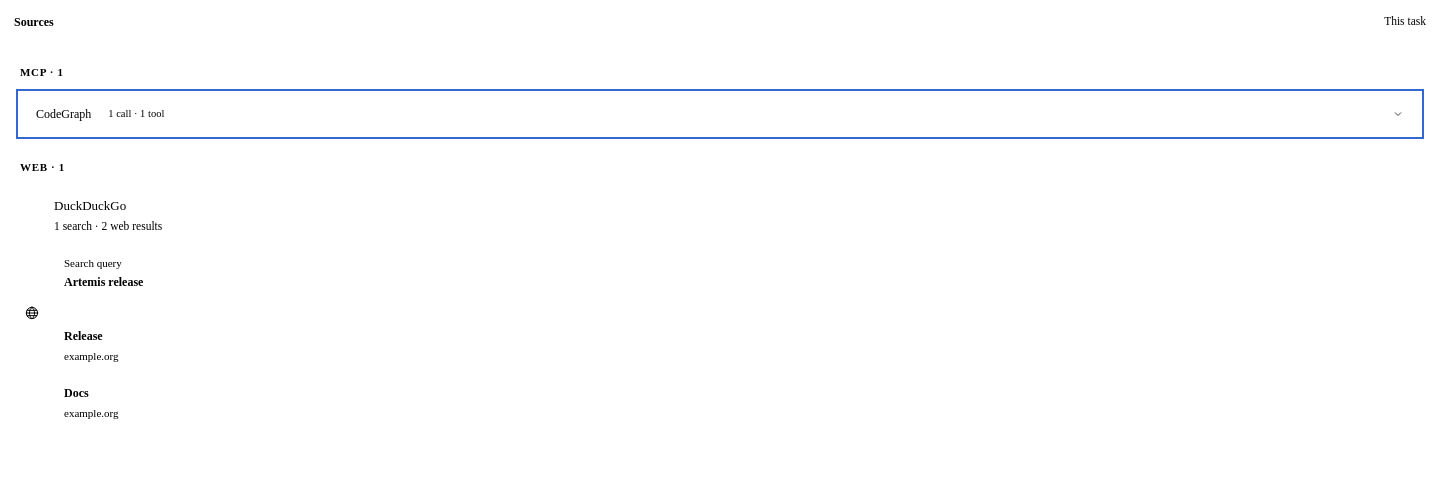
SourcesPanel interactions (jsdom) › expands MCP tool details with aria-expanded and keyboard, then collapses
Press Enter
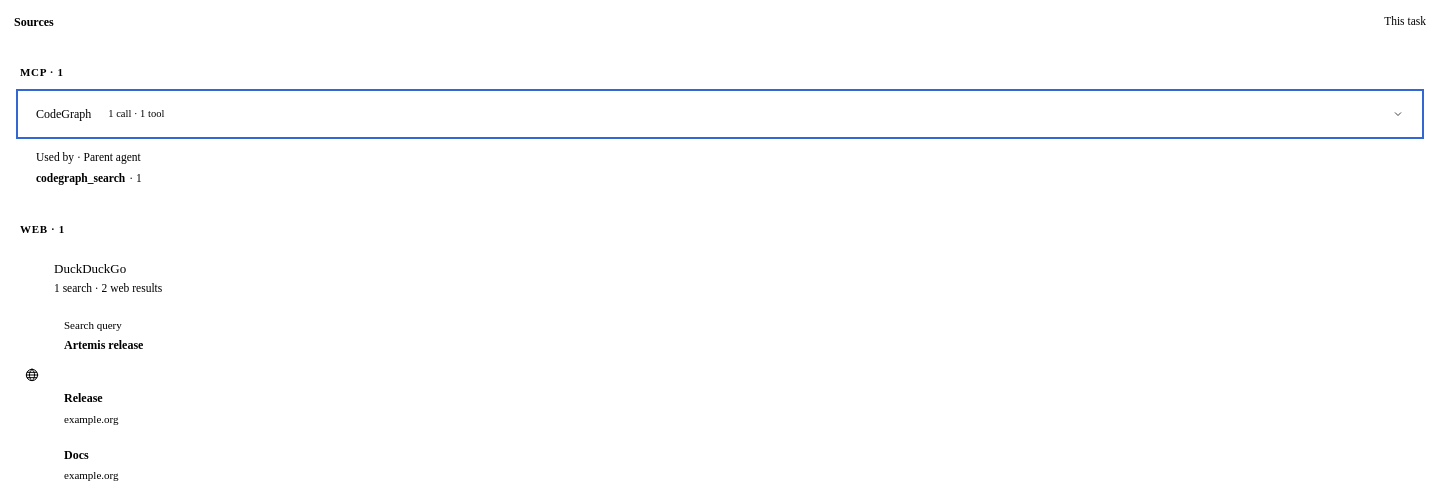
Expected: the text "codegraph_search" is shown, [36,170,125,187]
Click the button named "show tool call details" at {"x": 64, "y": 114}, box [20,92,1420,134]
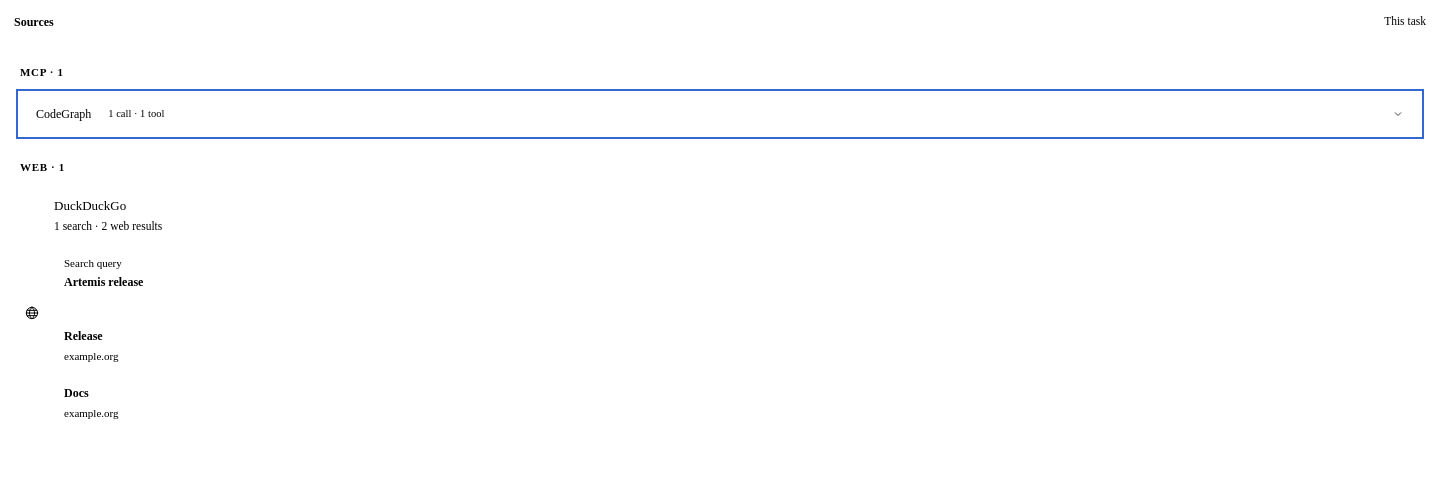
Expected: the text "codegraph_search" is gone
